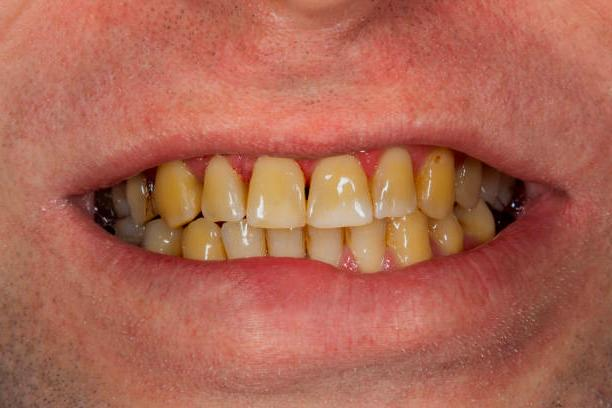Calculus: (309, 150, 378, 229), (242, 160, 312, 233), (401, 152, 469, 221), (143, 156, 205, 231), (368, 141, 414, 222), (199, 156, 248, 225), (175, 210, 234, 266), (379, 208, 431, 265), (426, 208, 471, 265), (123, 167, 155, 224)
